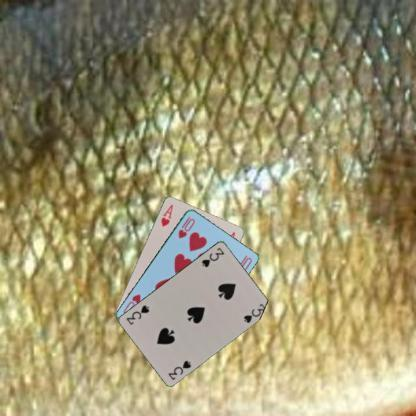10h: (176, 214, 197, 240)
3s: (198, 245, 226, 268), (166, 358, 192, 382)
Ah: (158, 202, 174, 228)
